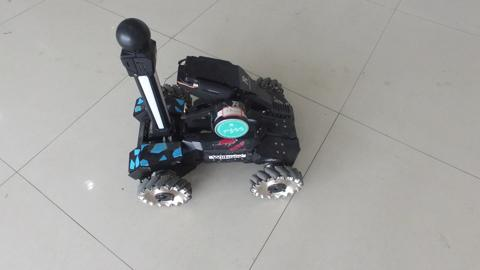chariot: (96, 20, 305, 208)
